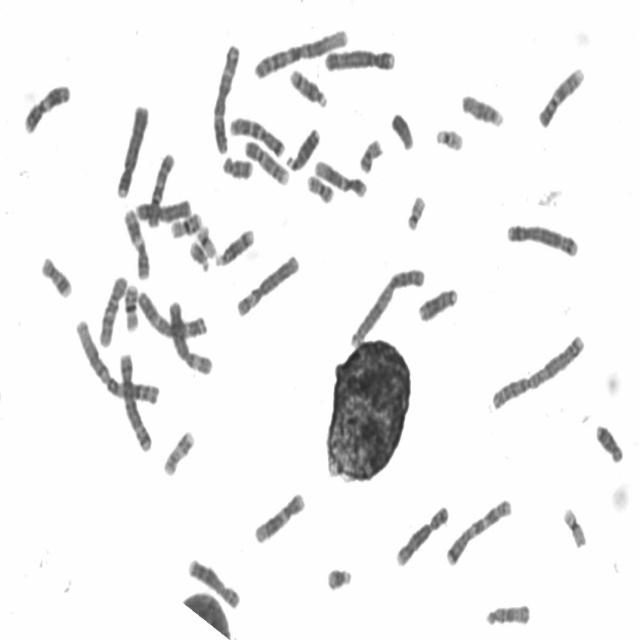A1: (71, 312, 163, 406), (250, 21, 352, 81)
A2: (488, 327, 589, 412), (347, 260, 428, 349)
A3: (135, 283, 210, 342), (210, 37, 243, 155)
B4: (113, 98, 151, 200), (321, 42, 398, 73)
B5: (116, 346, 154, 454), (504, 216, 581, 259)
C10: (144, 146, 177, 229), (96, 268, 130, 348)
C11: (21, 77, 74, 135), (120, 202, 152, 282)
C12: (251, 486, 308, 545), (311, 153, 370, 199)
C6: (233, 248, 302, 318), (165, 293, 215, 377)
C7: (442, 492, 514, 568), (226, 110, 288, 159)
C8: (393, 498, 452, 568), (185, 552, 243, 610)
C9: (536, 60, 587, 129), (242, 134, 292, 186)
D13: (284, 121, 322, 172), (415, 281, 461, 323)
D14: (212, 222, 257, 268), (286, 62, 330, 109)
D15: (459, 86, 506, 129), (482, 597, 532, 628)
E16: (168, 205, 205, 240), (122, 277, 141, 333)
E17: (160, 423, 198, 478), (38, 249, 75, 300)
E18: (592, 417, 626, 464), (220, 149, 256, 181)
F19: (560, 502, 589, 550), (194, 220, 219, 259)
F20: (356, 132, 386, 174), (304, 168, 336, 205)
G21: (324, 560, 355, 593), (186, 236, 212, 273)
G22: (432, 121, 466, 153), (404, 188, 428, 232)
X: (132, 193, 194, 223)
Y: (388, 106, 417, 152)
